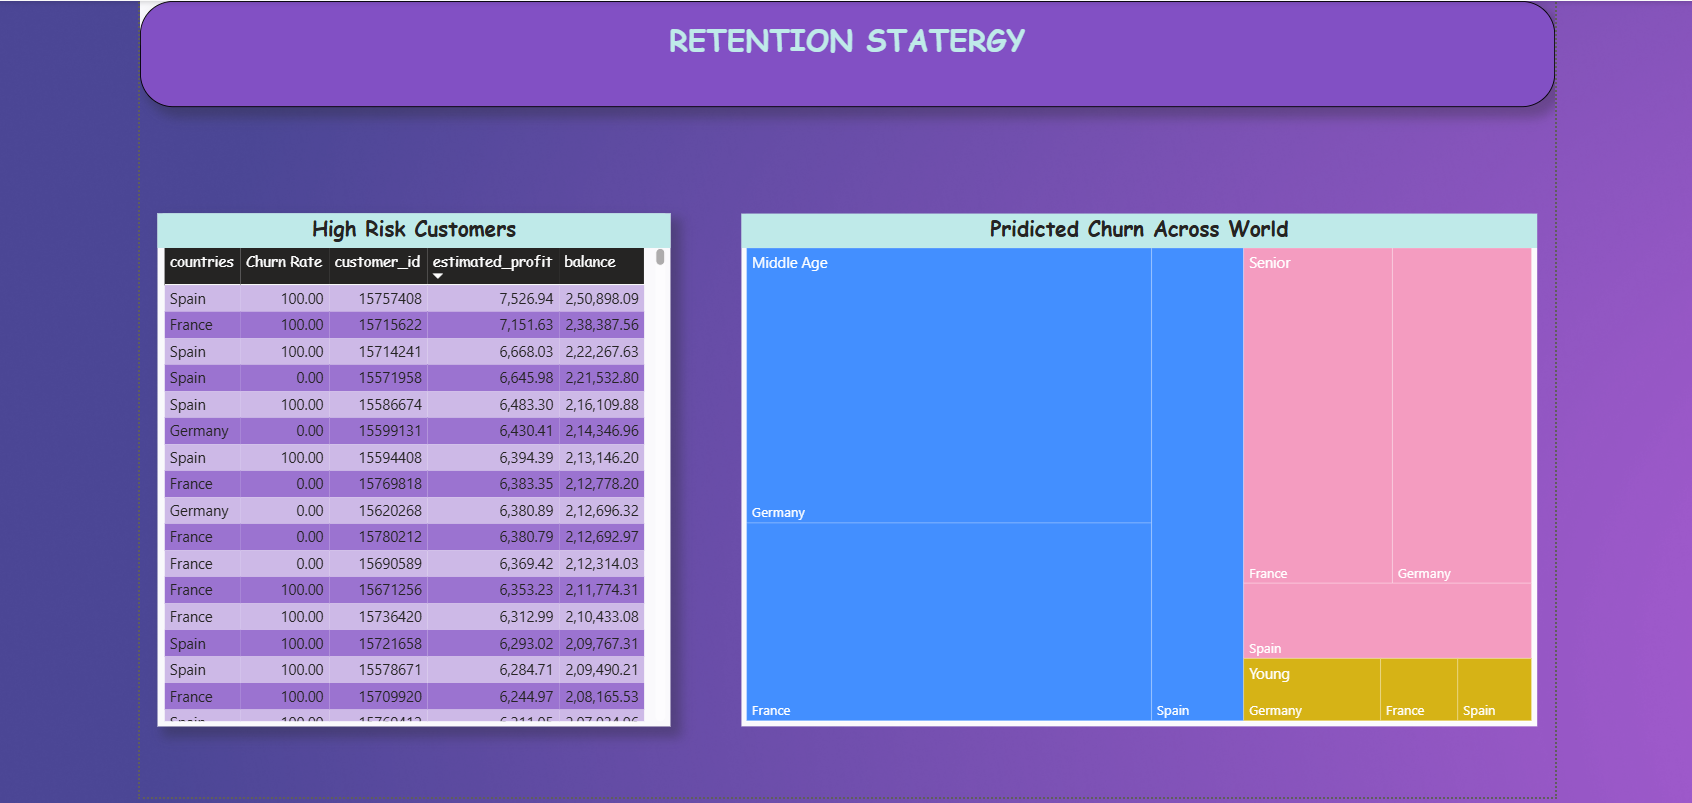

This screenshot's page, from the dashboard's own definition file:
{"tool":"powerbi","page":{"name":"Retention Statergy","canvas":[1280,720],"ordinal":3},"visuals":[{"type":"tableEx","title":"High Risk Customers","fields":{"Values":["Churn_Modelling (2).Geography","final_churn_dataset.Churn Rate","final_churn_dataset.customer_id","Sum(final_churn_dataset.estimated_profit)","Sum(final_churn_dataset.balance)"]},"box":[16,192,464,464],"z":0},{"type":"actionButton","box":[0,0,100,40],"z":1000},{"type":"treemap","title":"Pridicted Churn Across World","fields":{"Group":["final_churn_dataset.Age Group"],"Values":["Sum(final_churn_dataset.predicted_churn)"],"Details":["Churn_Modelling (2).Geography"]},"box":[544,192,720,464],"z":1001},{"type":"textbox","box":[0,0,1280,96],"z":1002}]}

Visuals, with their boxes in screenshot pixels (x1, y1, x2, y2):
"High Risk Customers" tableEx: bbox=[159, 206, 668, 716]
actionButton: bbox=[141, 0, 251, 40]
"Pridicted Churn Across World" treemap: bbox=[739, 206, 1529, 716]
textbox: bbox=[141, 0, 1547, 101]
